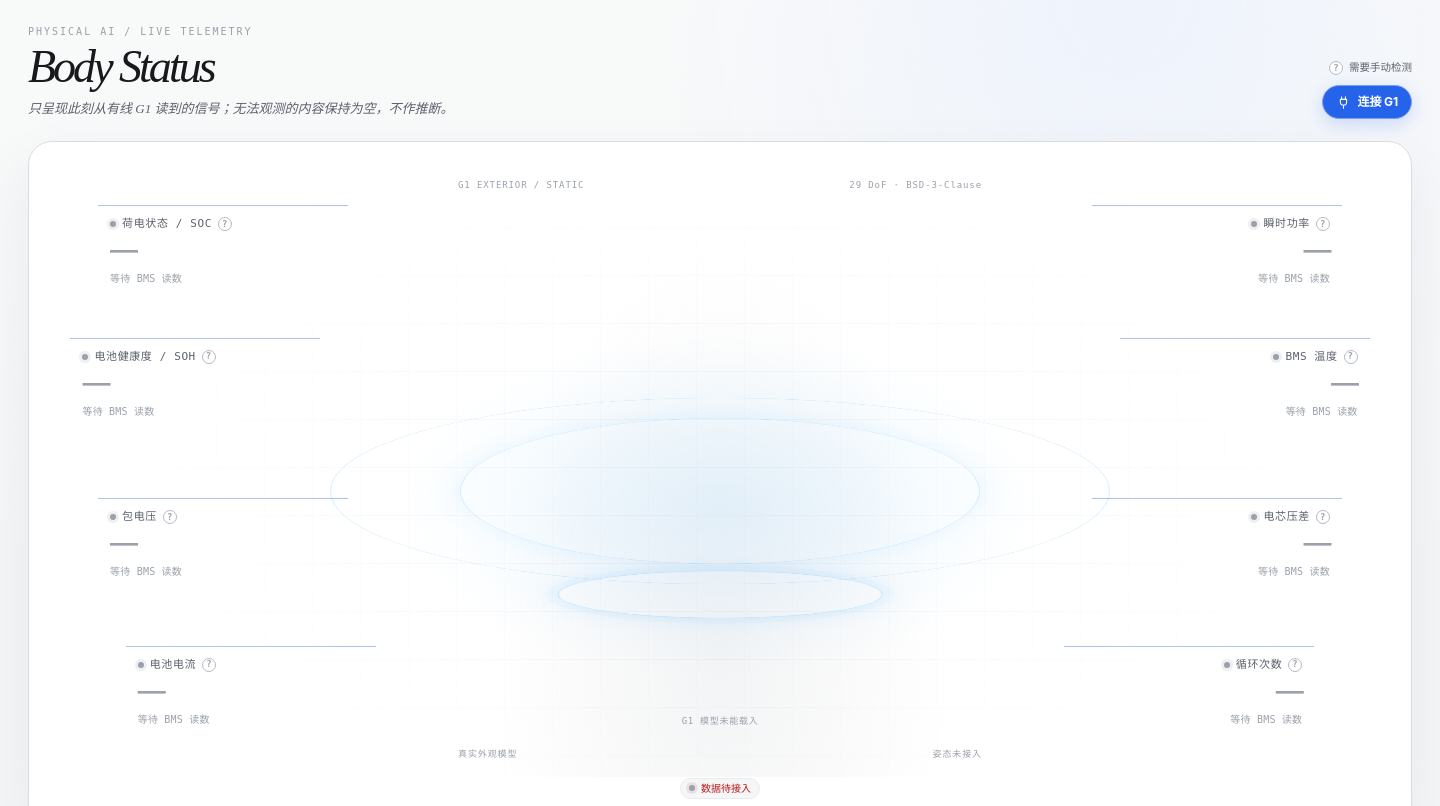
G1MonitorView › waits for a manual wired-connection check, then renders only observed readings
Click the button "连接 G1" at {"x": 1367, "y": 102}, box left=1322, top=85, right=1412, bottom=119
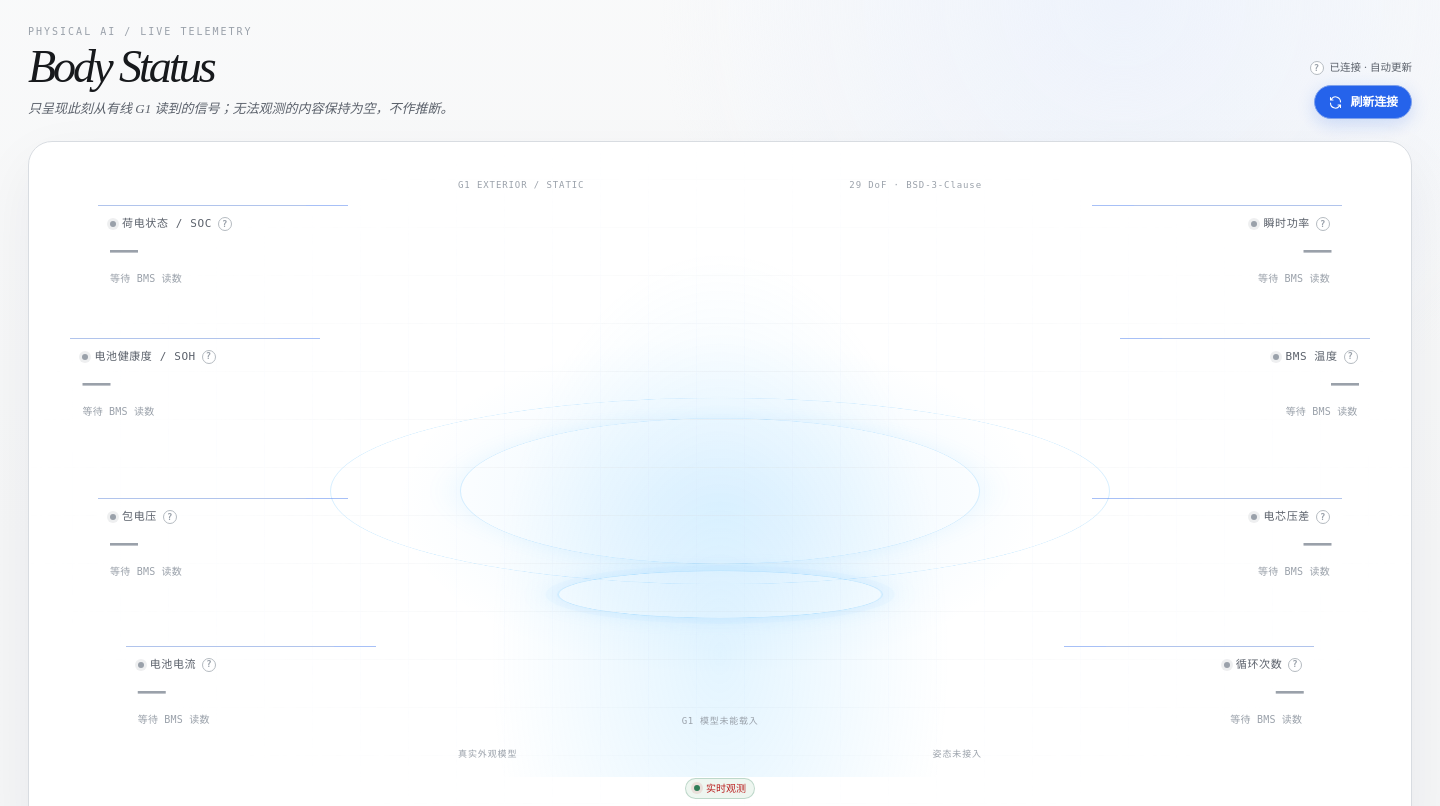
Check: the button named "说明：包电压" is shown, box left=163, top=510, right=177, bottom=524
Check: the text "实时观测" is shown, box left=685, top=778, right=755, bottom=799
